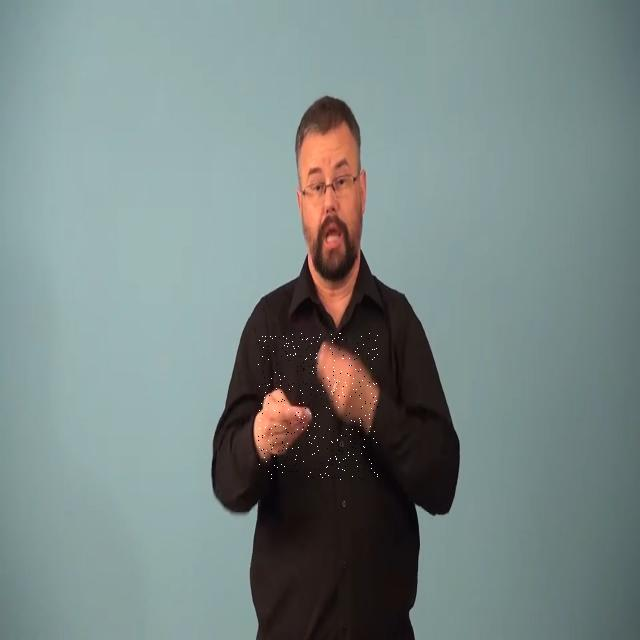cash: (258, 332, 379, 480)
